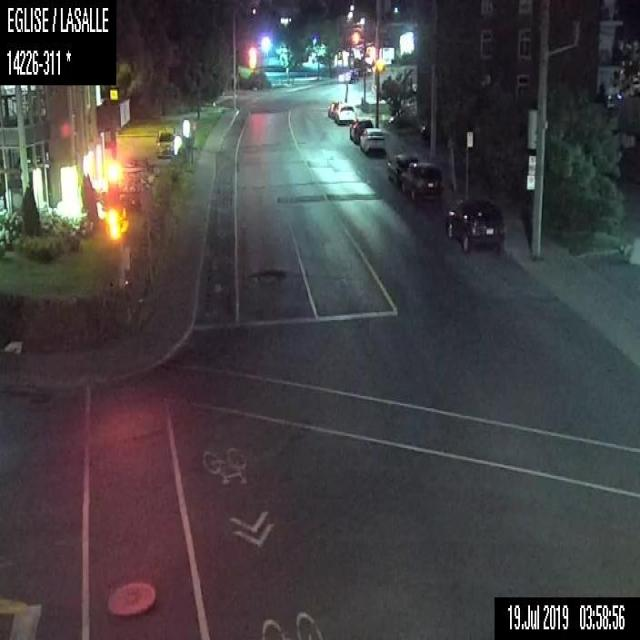vehicle: (442, 196, 502, 251), (401, 162, 441, 200), (384, 151, 416, 185), (360, 126, 386, 156), (348, 118, 373, 144), (155, 126, 175, 157), (333, 101, 356, 124), (326, 101, 334, 116)
